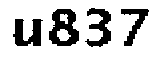3: (82, 7, 113, 50)
7: (119, 5, 150, 49)
8: (48, 6, 81, 49)
u: (11, 15, 43, 49)
